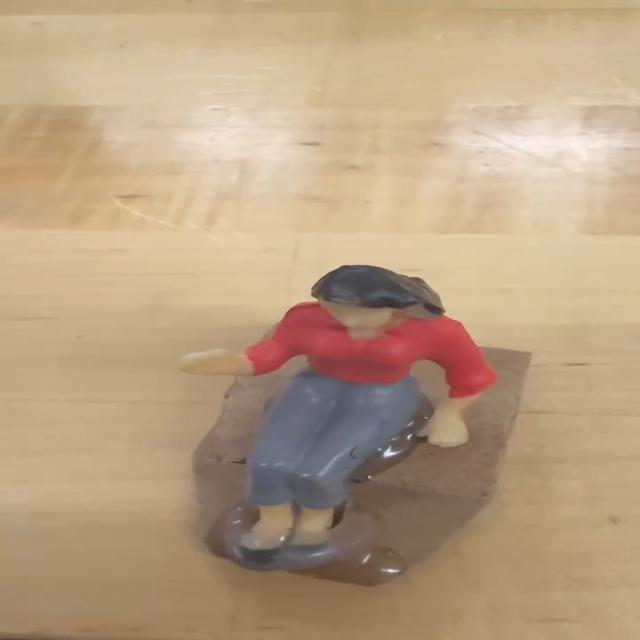Authorized: (107, 246, 549, 598)
